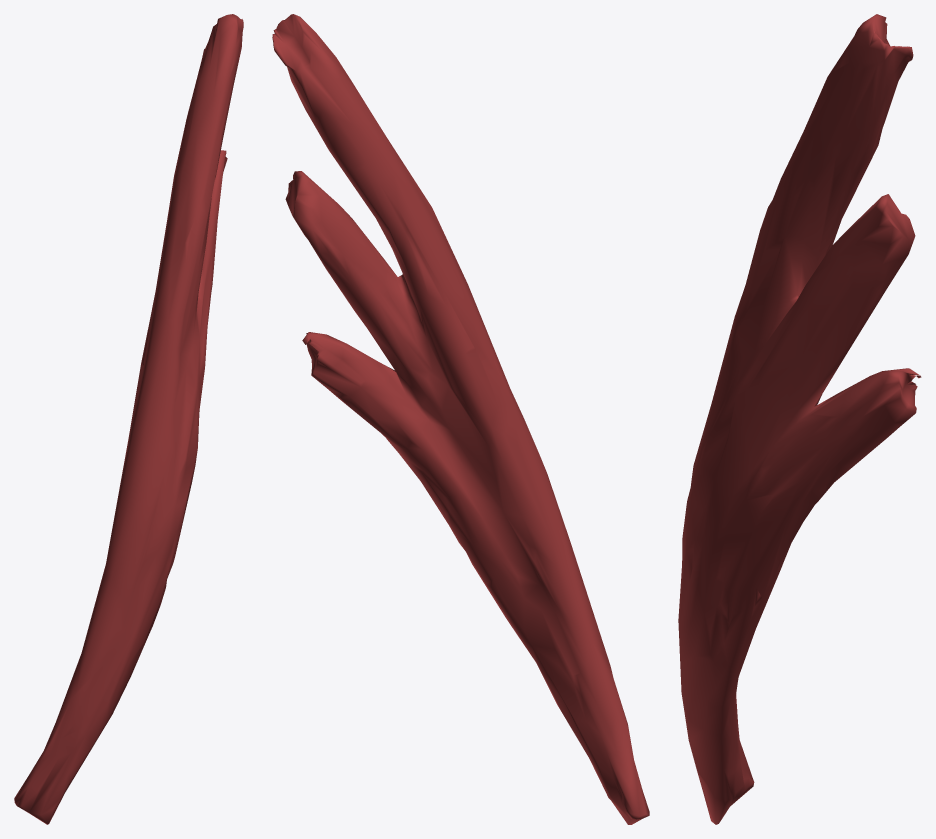
Rendered from scalenus-anterior-muscle-r.glb.
3 renders of one model, left to right at view 1: azimuth 30°, elevation 25°; view 2: azimuth 150°, elevation 25°; view 3: azimuth 270°, elevation 25°, orthographic. The views are drawn at different scales.
Parts seen in each view (by area): view 1: Scalenus anterior muscle.r; view 2: Scalenus anterior muscle.r; view 3: Scalenus anterior muscle.r.
Boxes of the visible parts, x1,y1,x2,y2 form: Scalenus anterior muscle.r: [14, 14, 243, 824]; Scalenus anterior muscle.r: [272, 14, 649, 824]; Scalenus anterior muscle.r: [678, 14, 921, 824].
Bounding box in the file's own units: 0.0343 × 0.0828 × 0.0188.
